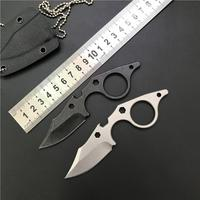knife: (39, 67, 171, 179)
